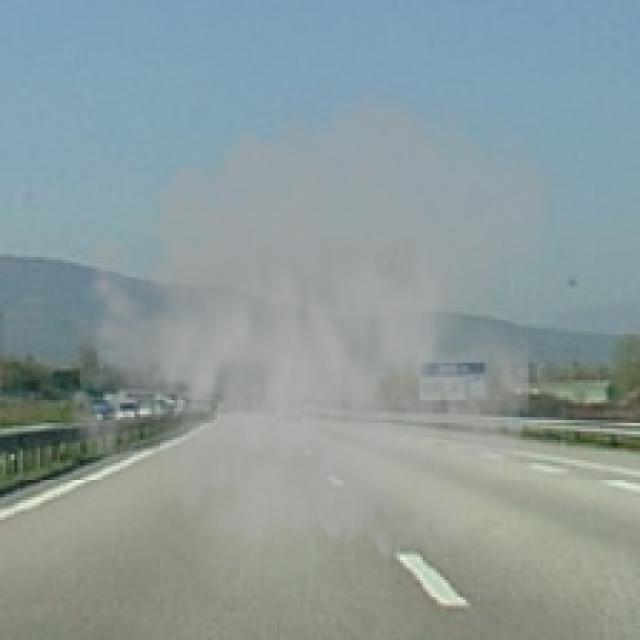smoke: (51, 65, 566, 606)
